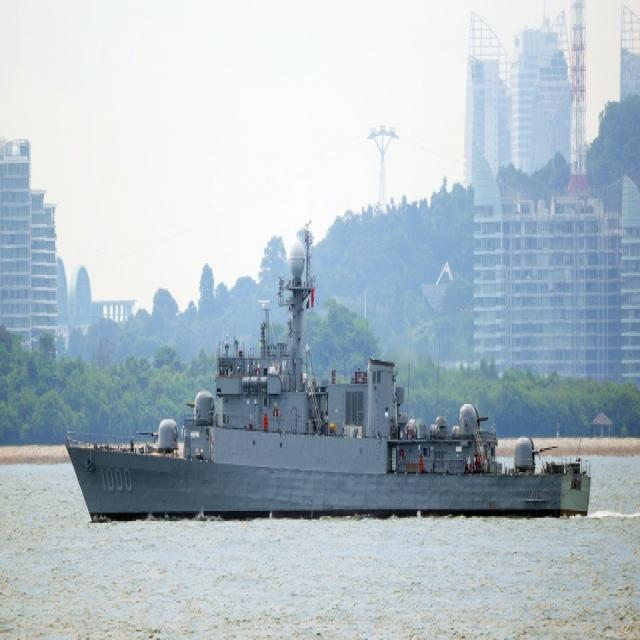Fragata: (60, 213, 596, 534)
